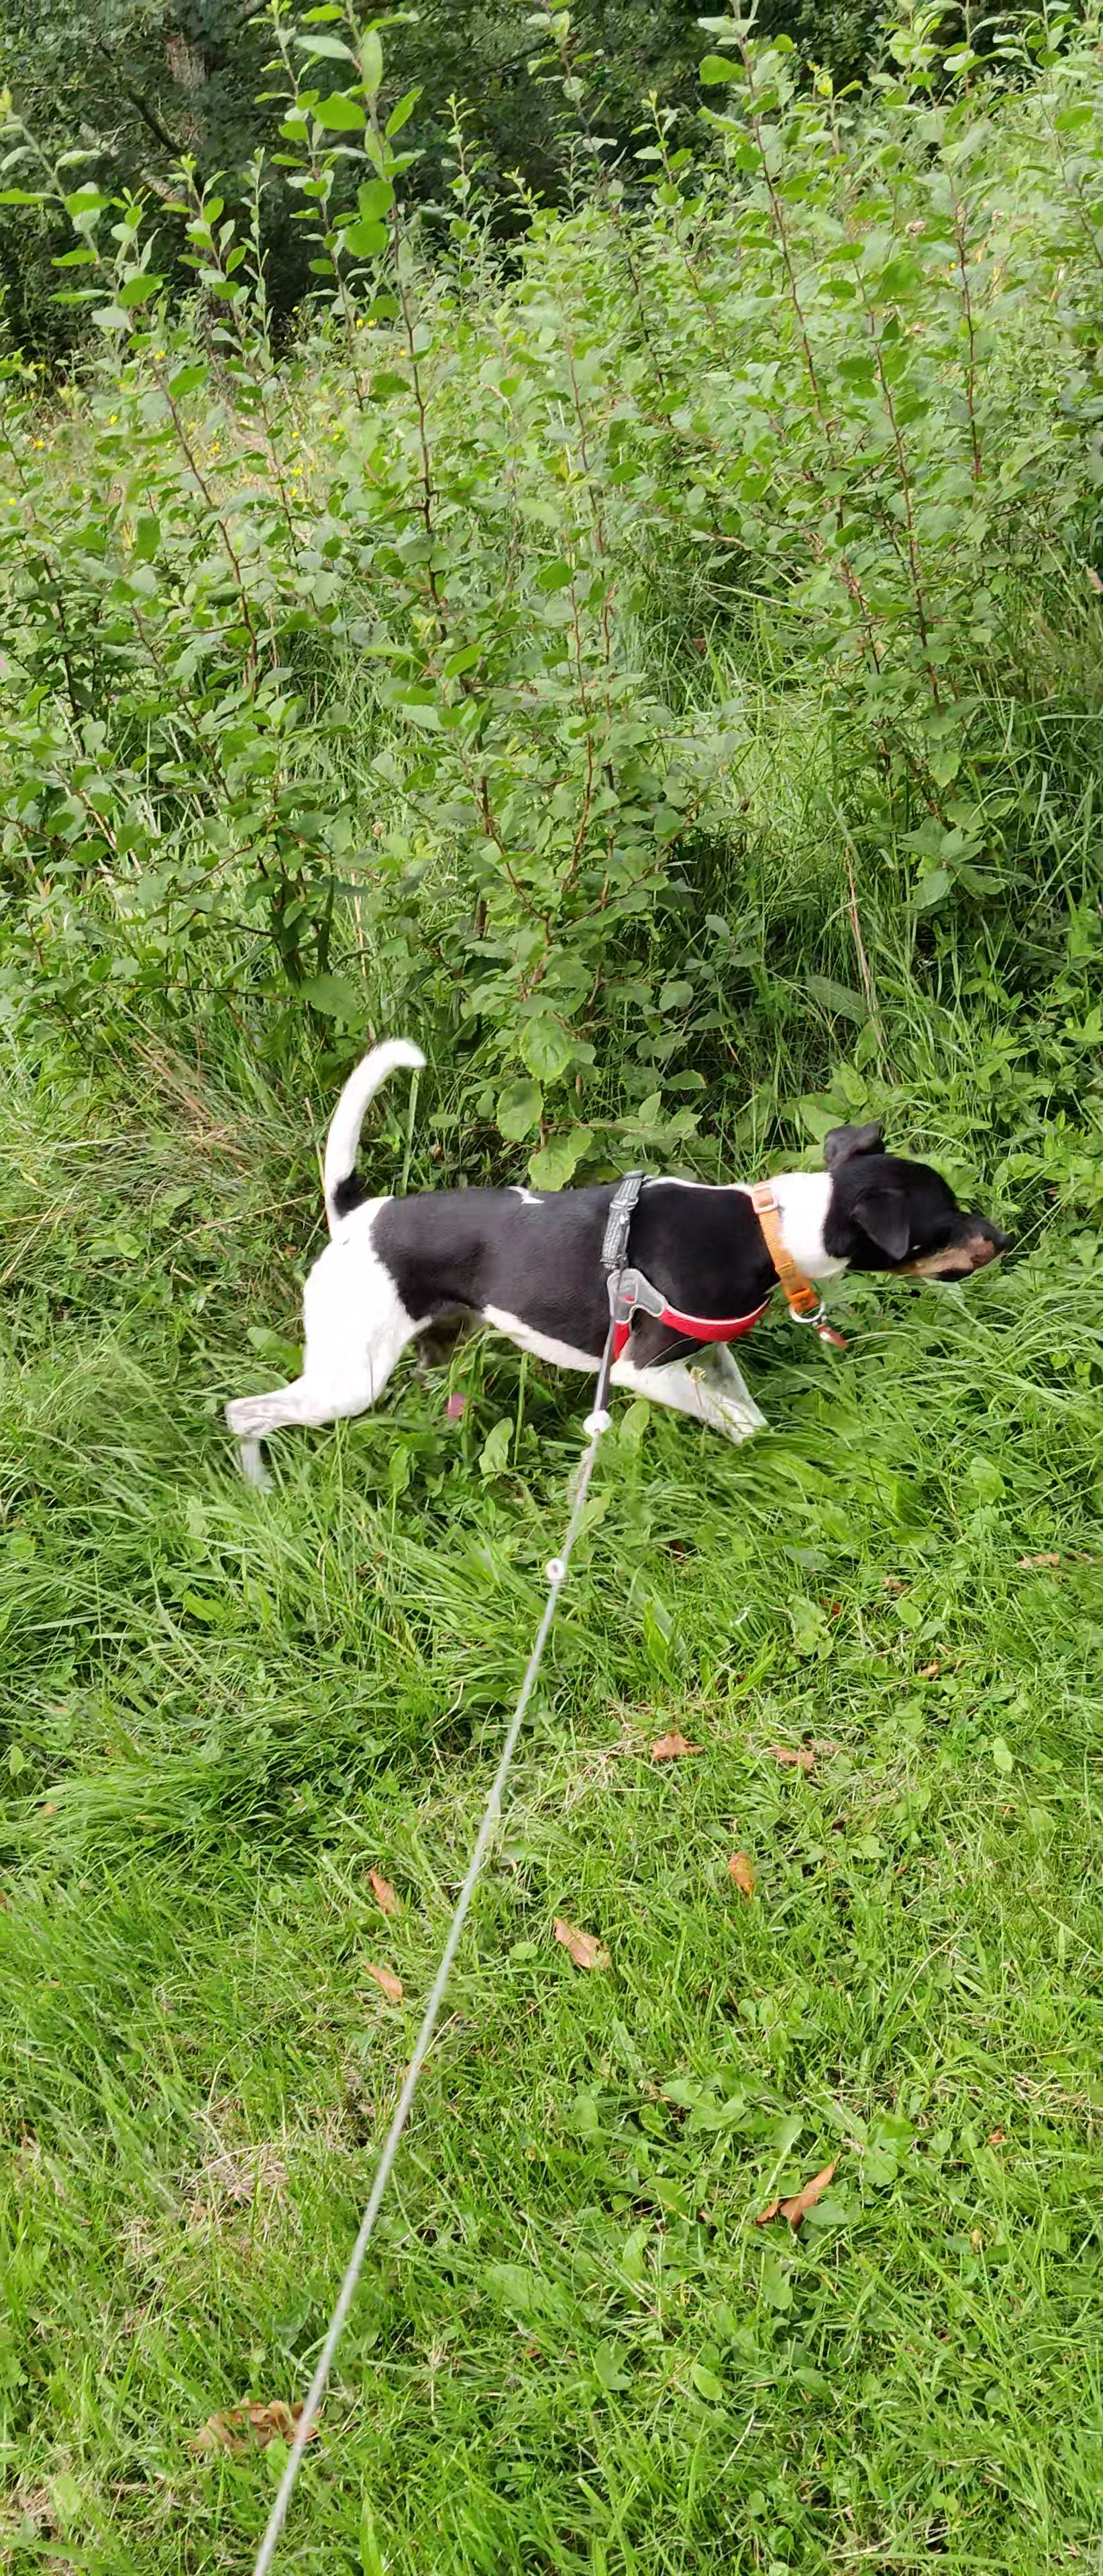Dog: (214, 1025, 1014, 1515)
